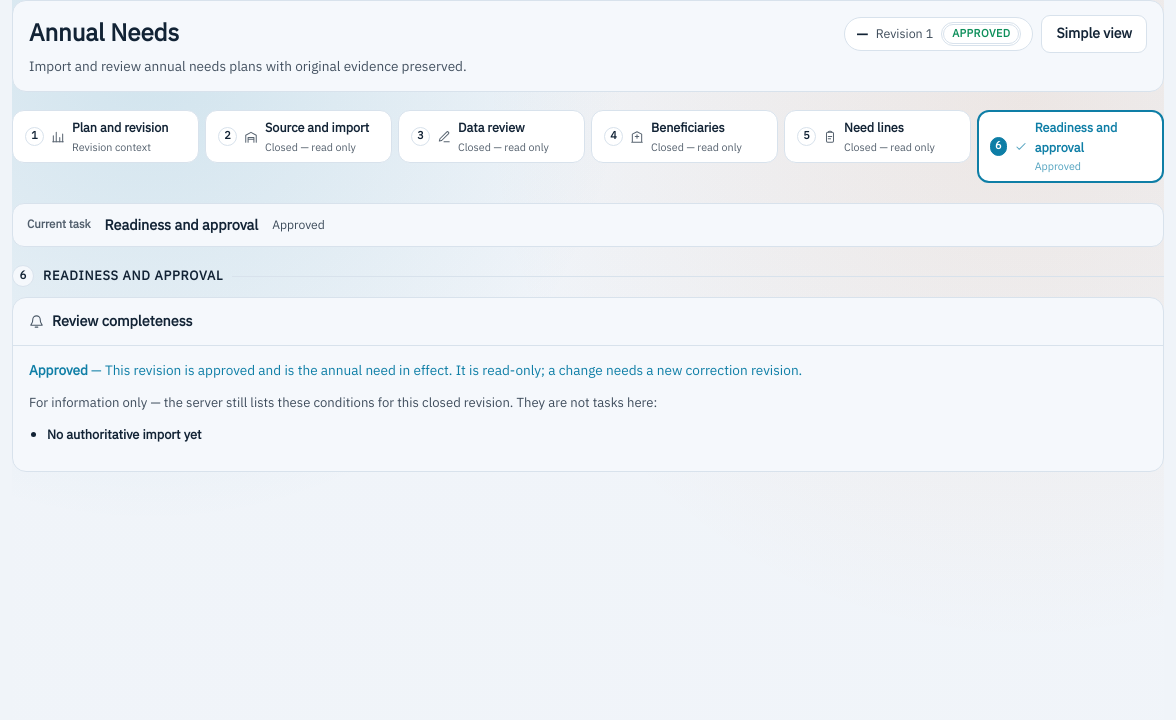
C1 — the selected revision context is stated from the revision itself › Advanced Mode disables the open-next control and says why when the plan year is unavailable
What coordinates should you click on to do the following:
click the button "1 Plan and revision Revision context"
I would click on:
 (106, 137)
Its box is [12,110,199,164].
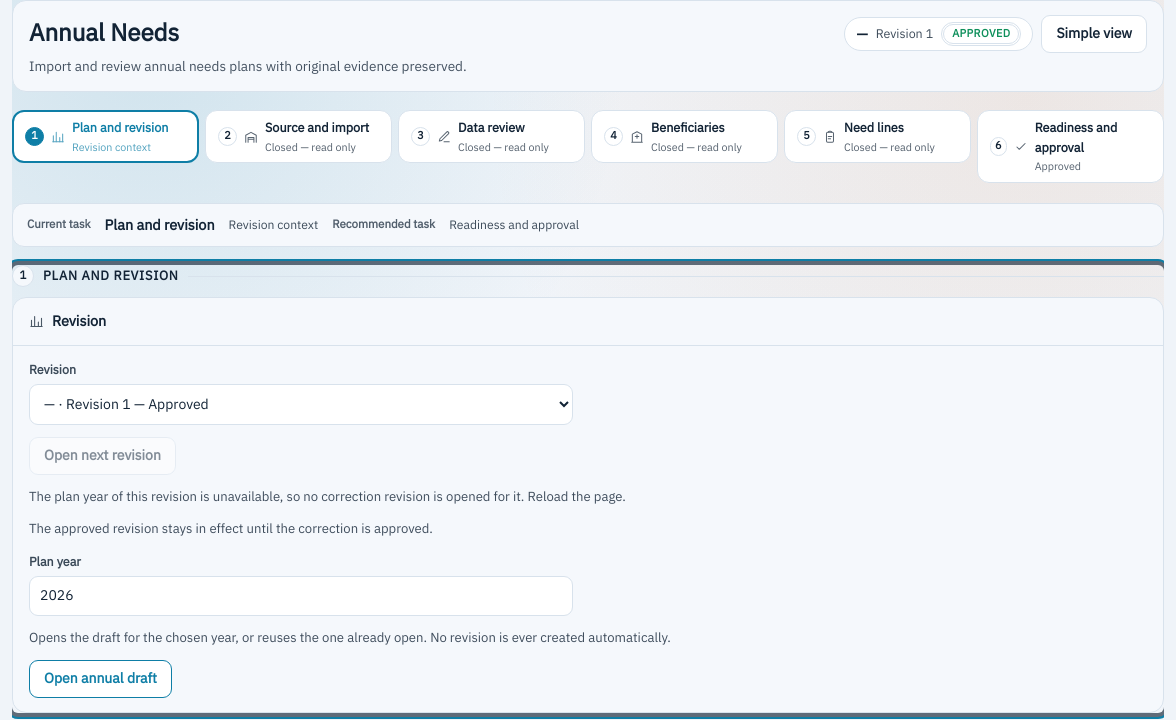
Expected: the button "Open next revision" is disabled, [29,437,176,475]
Expected: the text "The plan year of this revision is unavailable, so no correction revision is opened for it. Reload the page." is shown, [29,487,626,506]
